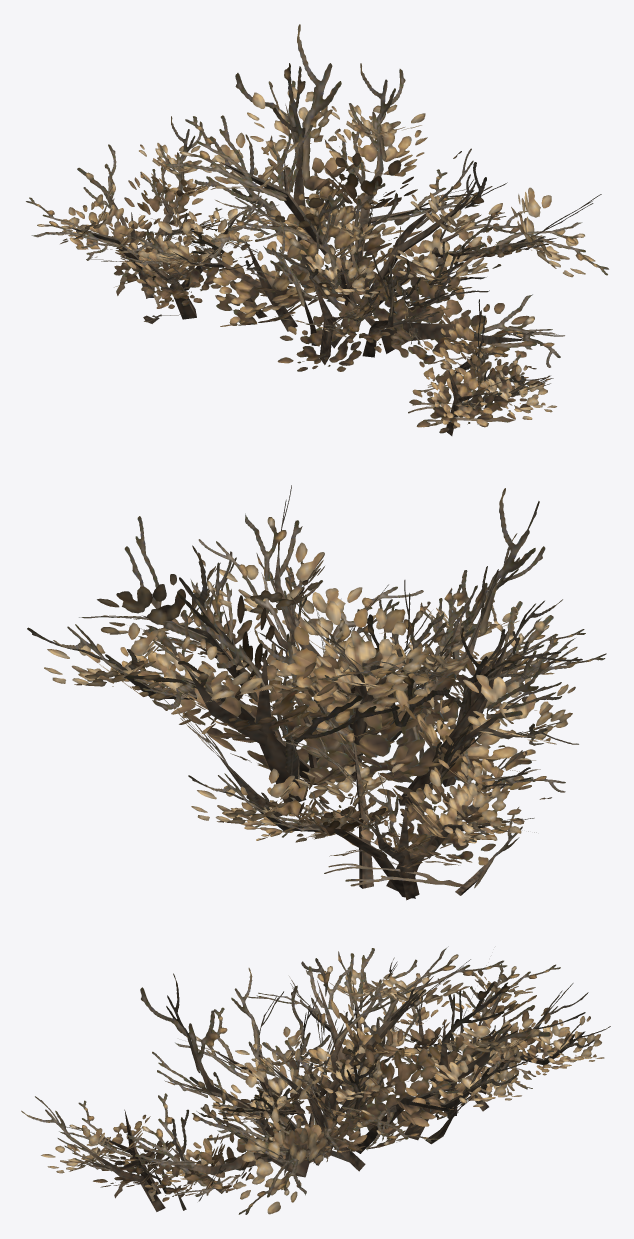
Rendered from xsm_cao_1.FBX.
3 renders of one model, top to bottom at view 1: azimuth 30°, elevation 25°; view 2: azimuth 150°, elevation 25°; view 3: azimuth 270°, elevation 25°, orthographic. The views are drawn at different scales.
Visible parts, largest first — view 1: xsm_cao_1; view 2: xsm_cao_1; view 3: xsm_cao_1.
Part boxes in pixels (x1,y1,x2,y2): xsm_cao_1: (26, 24, 608, 435); xsm_cao_1: (27, 485, 606, 900); xsm_cao_1: (21, 946, 610, 1214).
Size of the model in its own units: 215 by 122 by 244.
